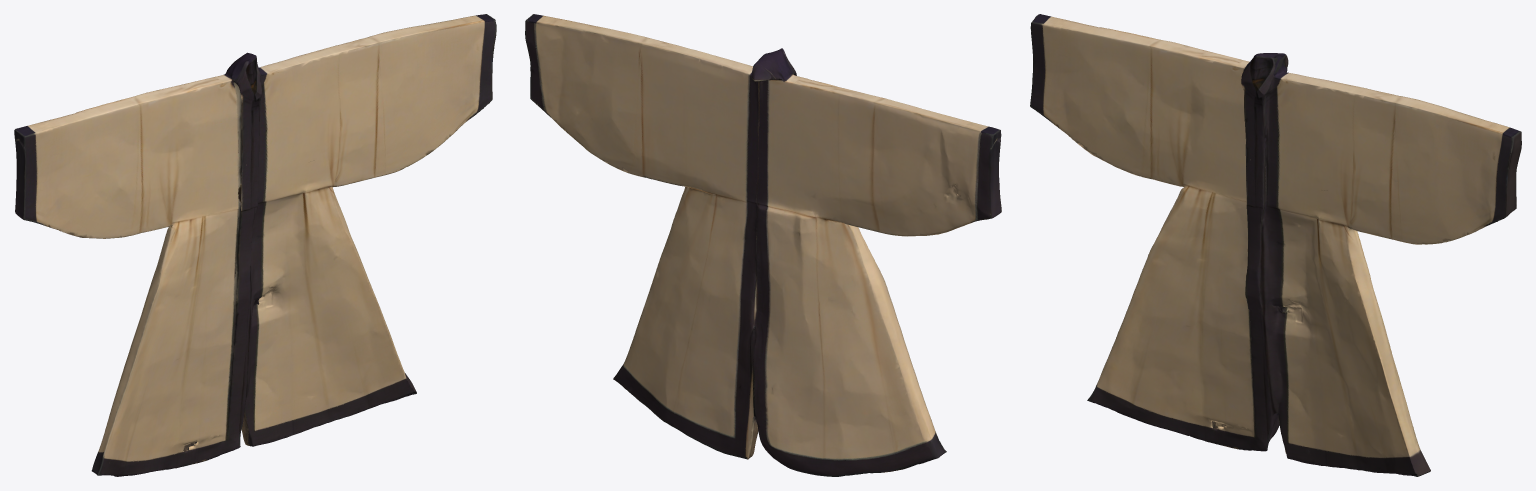
File: 朱子深衣（直领款）.glb
3 renders of one model, left to right at view 1: azimuth 30°, elevation 25°; view 2: azimuth 150°, elevation 25°; view 3: azimuth 330°, elevation 25°, orthographic. The views are drawn at different scales.
Size of the model in its own units: 2 by 1.63 by 0.2073.
1 material, 1 textured.
